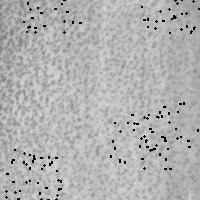pitted_surface: (2, 1, 199, 199), (141, 102, 200, 162), (110, 114, 169, 168), (5, 149, 60, 200), (141, 0, 200, 32), (23, 0, 83, 31)
